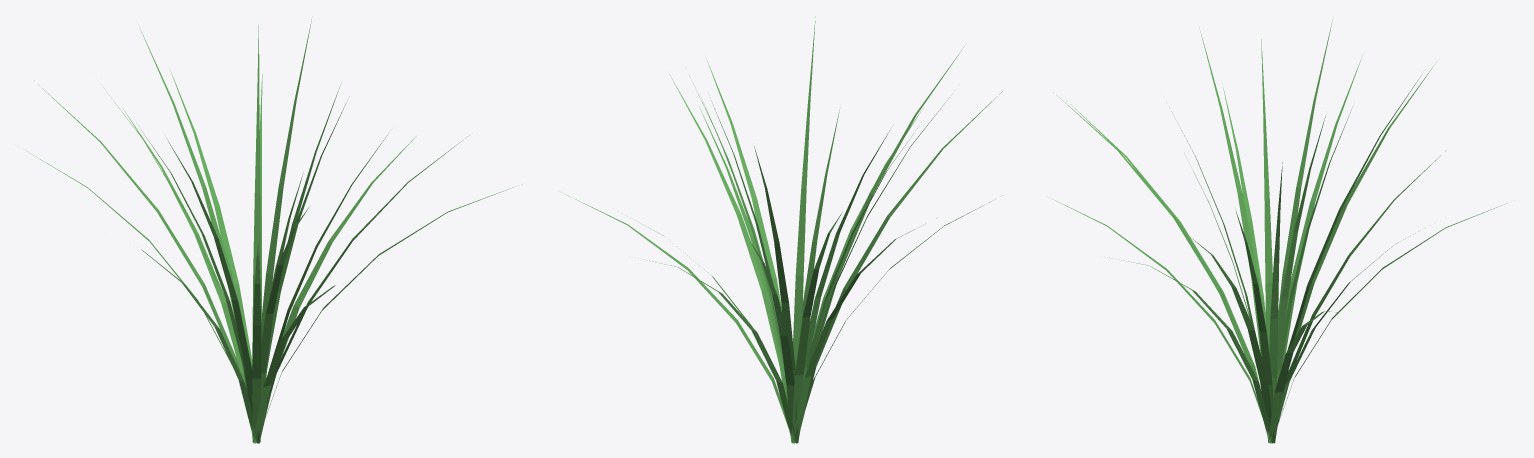
Rendered from rice_booting_lod0.glb.
3 renders of one model, left to right at view 1: azimuth 30°, elevation 25°; view 2: azimuth 150°, elevation 25°; view 3: azimuth 270°, elevation 25°, orthographic. The views are drawn at different scales.
Parts seen in each view (by area): view 1: rice_booting_leaves; view 2: rice_booting_leaves; view 3: rice_booting_leaves.
Part boxes in pixels (x1,y1,x2,y2): rice_booting_leaves: [27, 19, 515, 443]; rice_booting_leaves: [567, 17, 1002, 443]; rice_booting_leaves: [1047, 20, 1507, 443].
Size of the model in its own units: 0.7576 by 0.7051 by 0.8272.
